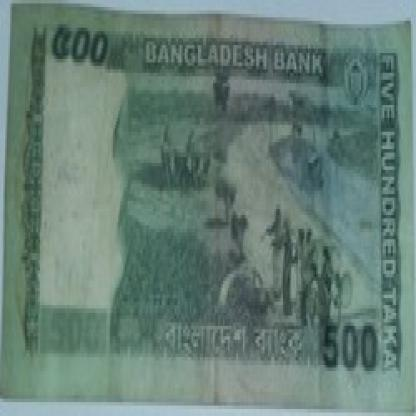500 taka: (35, 14, 120, 100)
currency: (2, 0, 414, 413)
